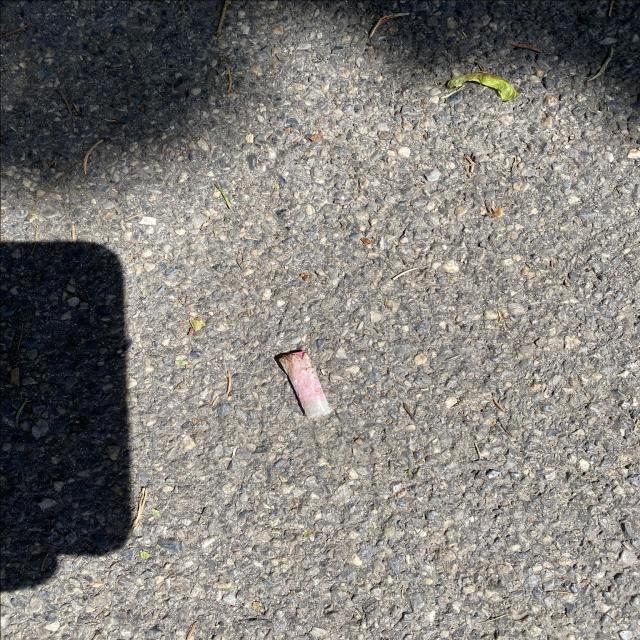other waste: (276, 350, 333, 420)
